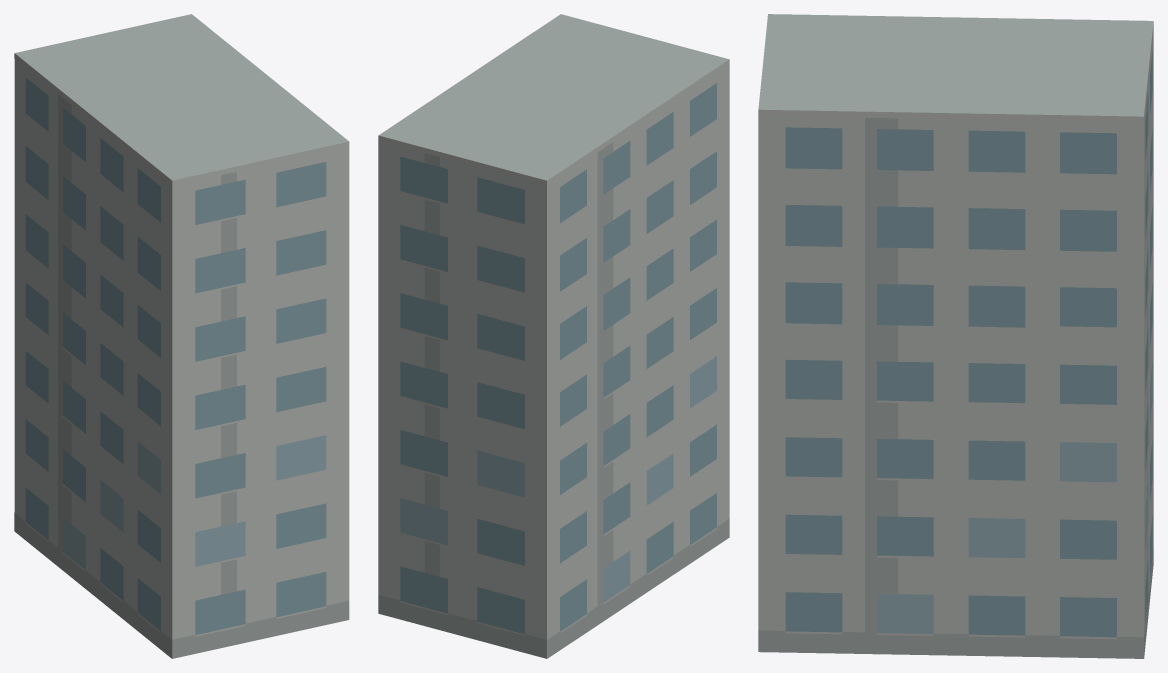
Rendered from survey-upis-32857470.glb.
The picture shows the model from 3 angles, left to right: view 1: azimuth 30°, elevation 25°; view 2: azimuth 150°, elevation 25°; view 3: azimuth 270°, elevation 25°; orthographic projection. The views are drawn at different scales.
Visible parts, largest first — view 1: survey-upis-32857470.tmp; view 2: survey-upis-32857470.tmp; view 3: survey-upis-32857470.tmp.
Boxes of the visible parts, x1=… form: survey-upis-32857470.tmp: x1=14, y1=14, x2=349, y2=658; survey-upis-32857470.tmp: x1=378, y1=14, x2=729, y2=658; survey-upis-32857470.tmp: x1=758, y1=14, x2=1153, y2=658.
Bounding box in the file's own units: 8.73 × 21.5 × 14.21.
